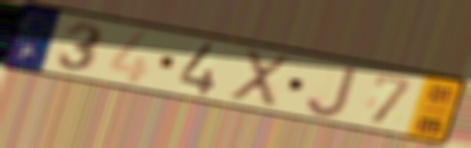3: (55, 22, 106, 72)
4: (105, 28, 151, 87), (177, 41, 217, 98)
7: (369, 72, 416, 127)
J: (304, 64, 361, 119)
X: (225, 47, 294, 111)
